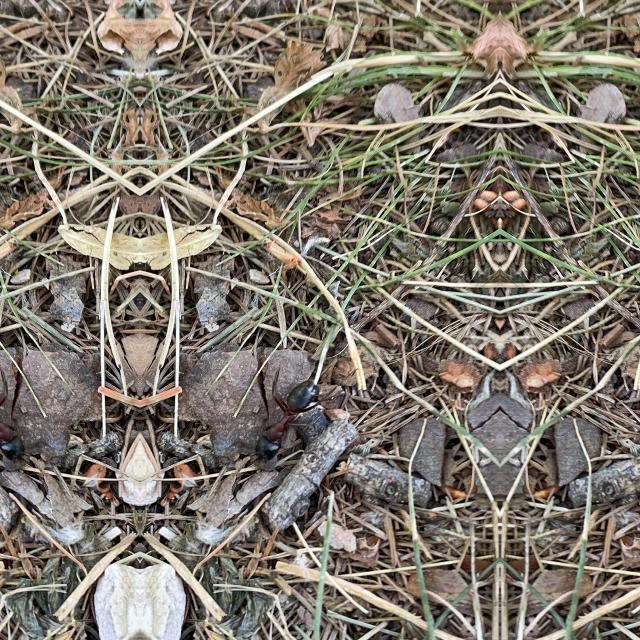Camponotus: (245, 354, 327, 484), (0, 354, 34, 484)
